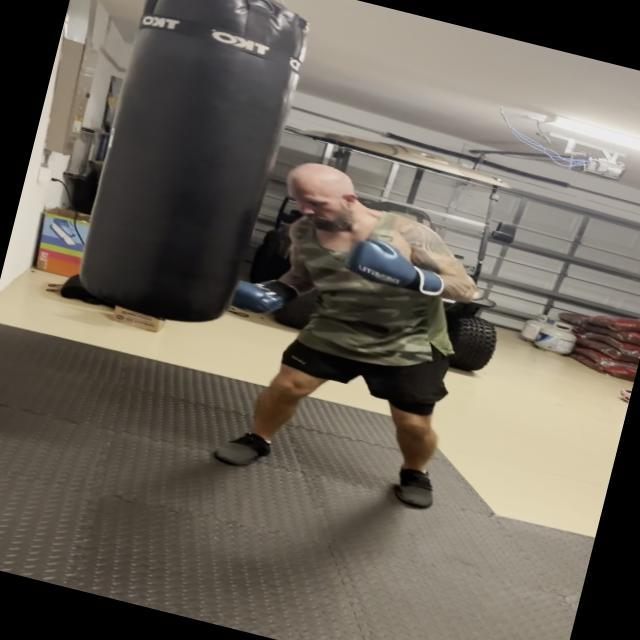bag: (43, 0, 326, 342)
uppercut: (182, 138, 494, 375)
